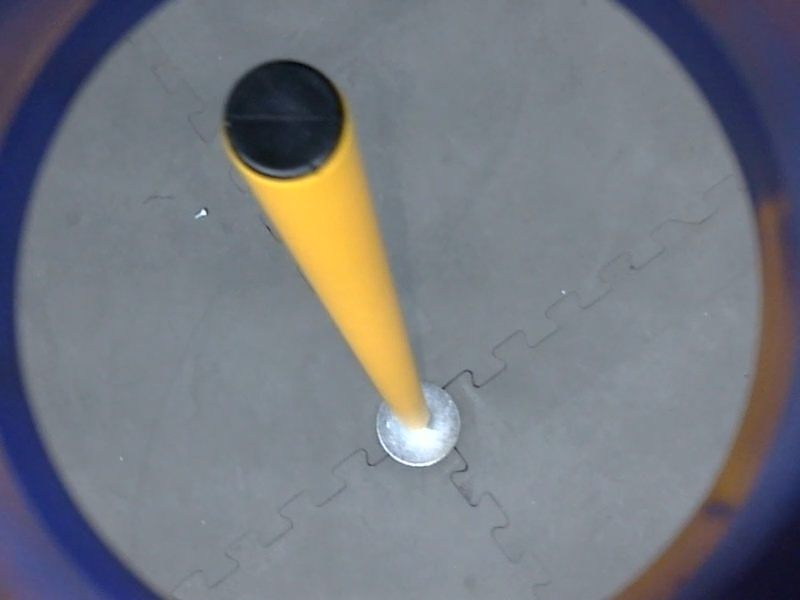tip: (216, 53, 355, 189)
